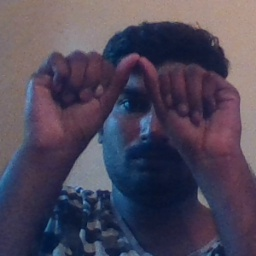A: (62, 43, 208, 146)
